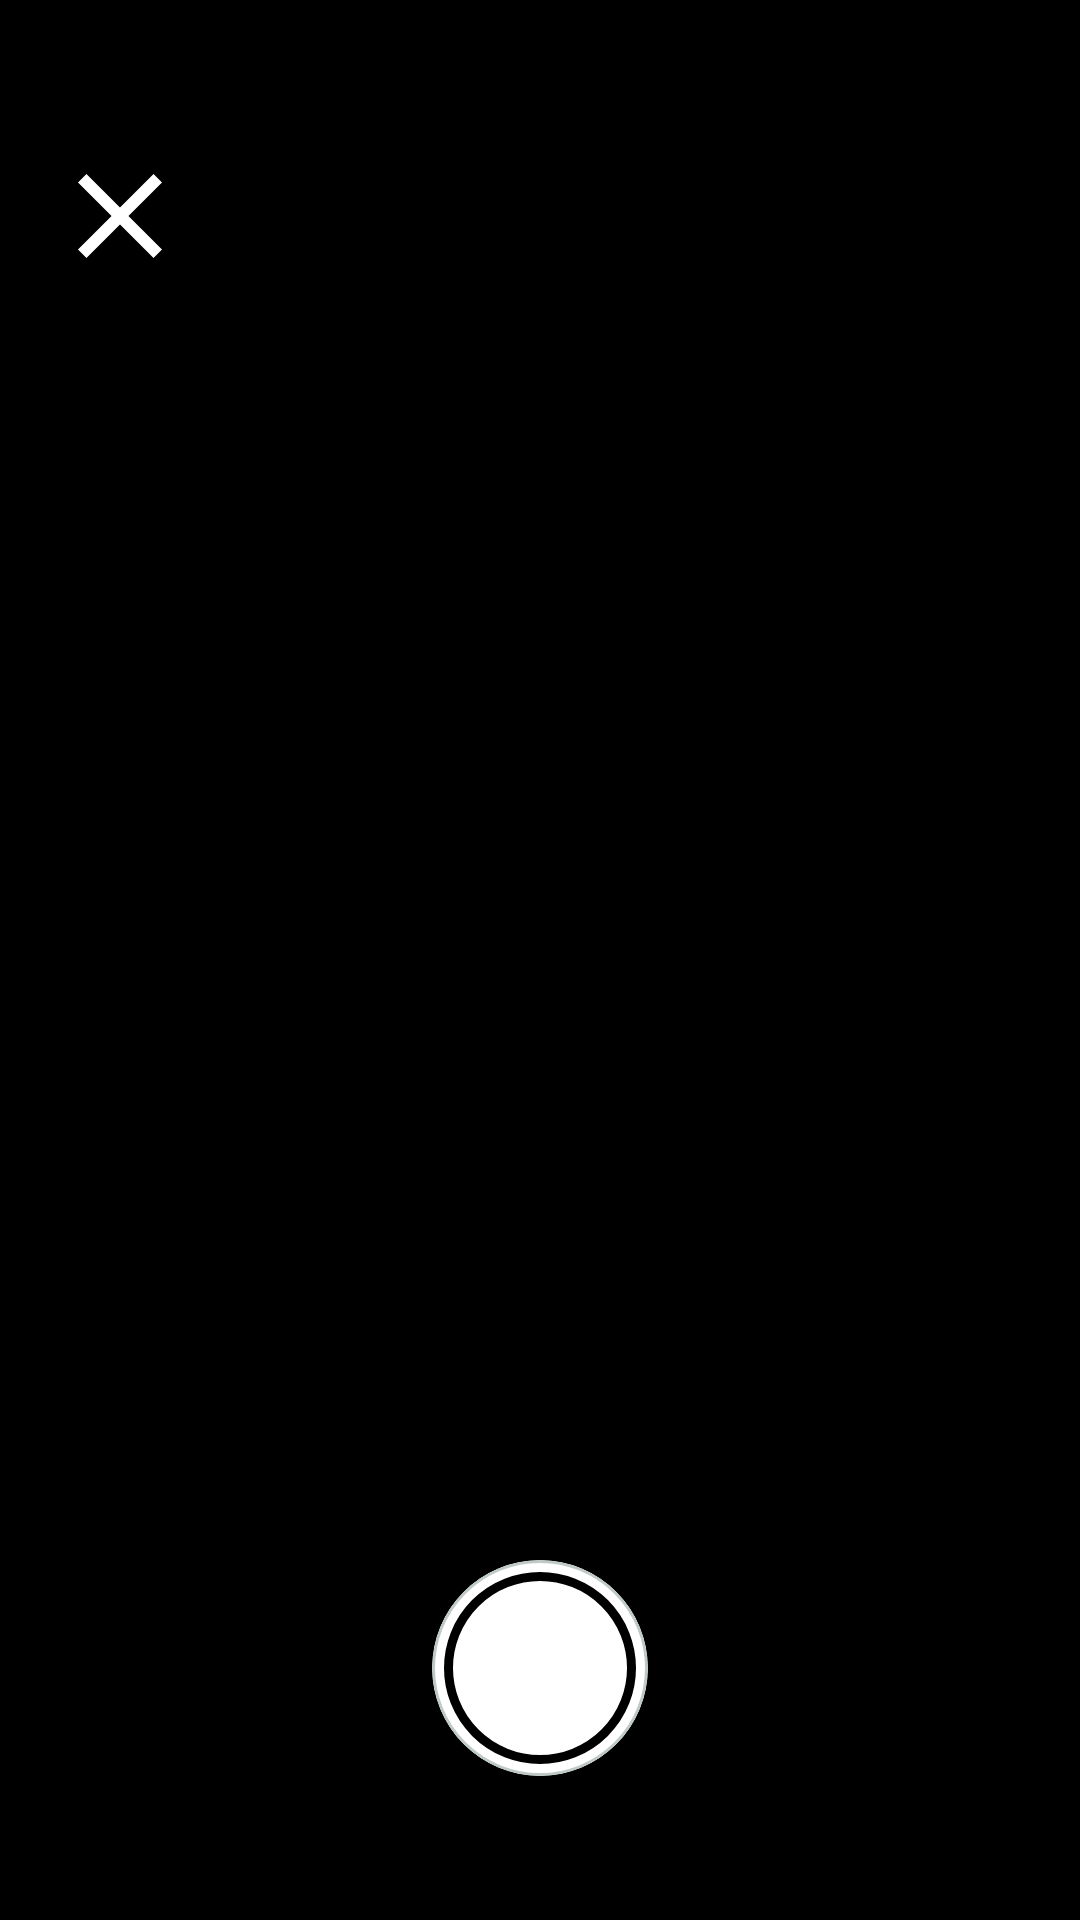

Named icons in this screenshot (1080×1920) and their bounding boxes, (x1, y1, x2, y2):
close: (78, 174, 162, 258)
